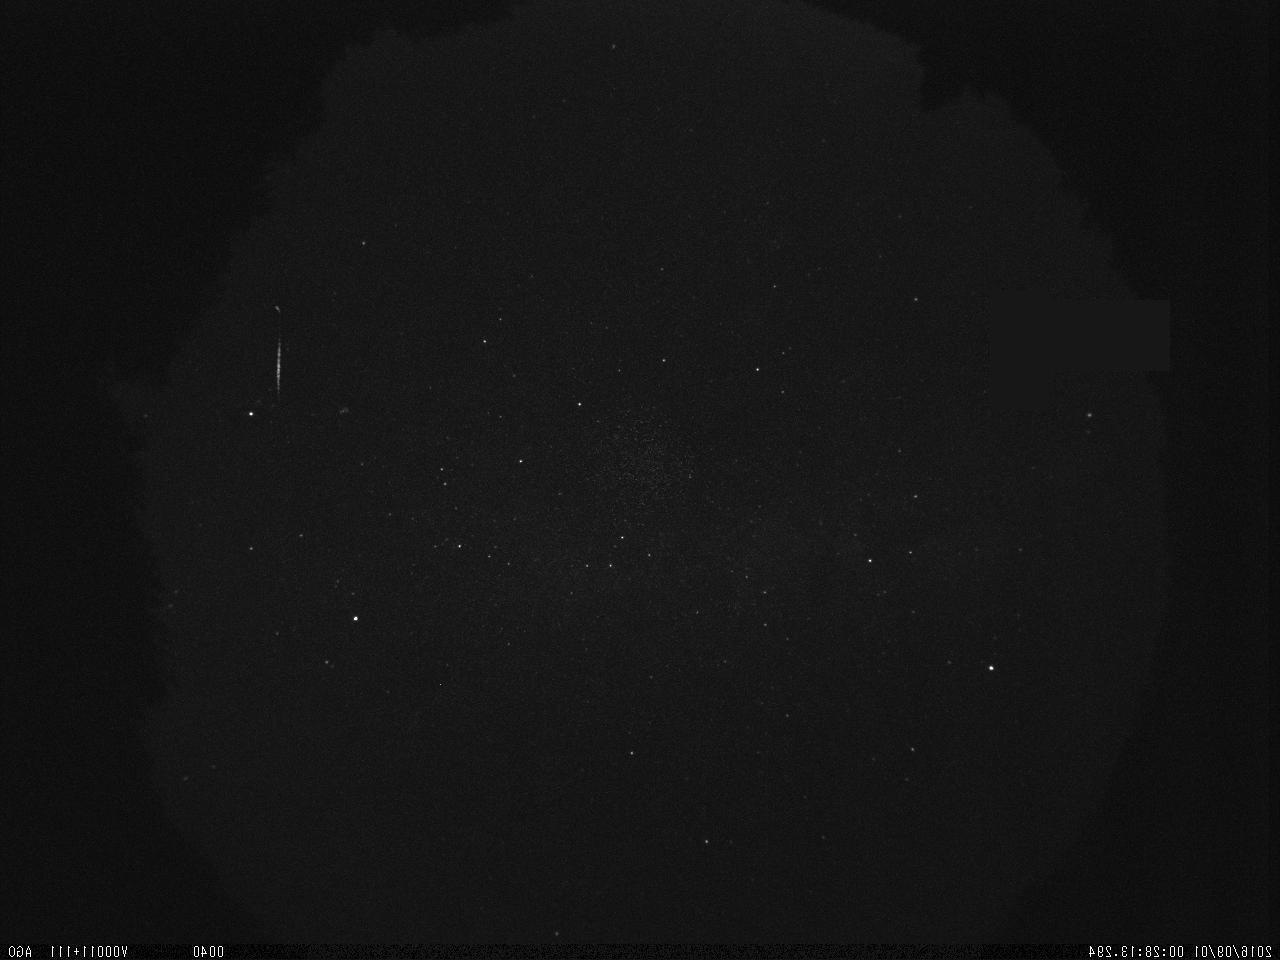meteor: (265, 304, 288, 407)
